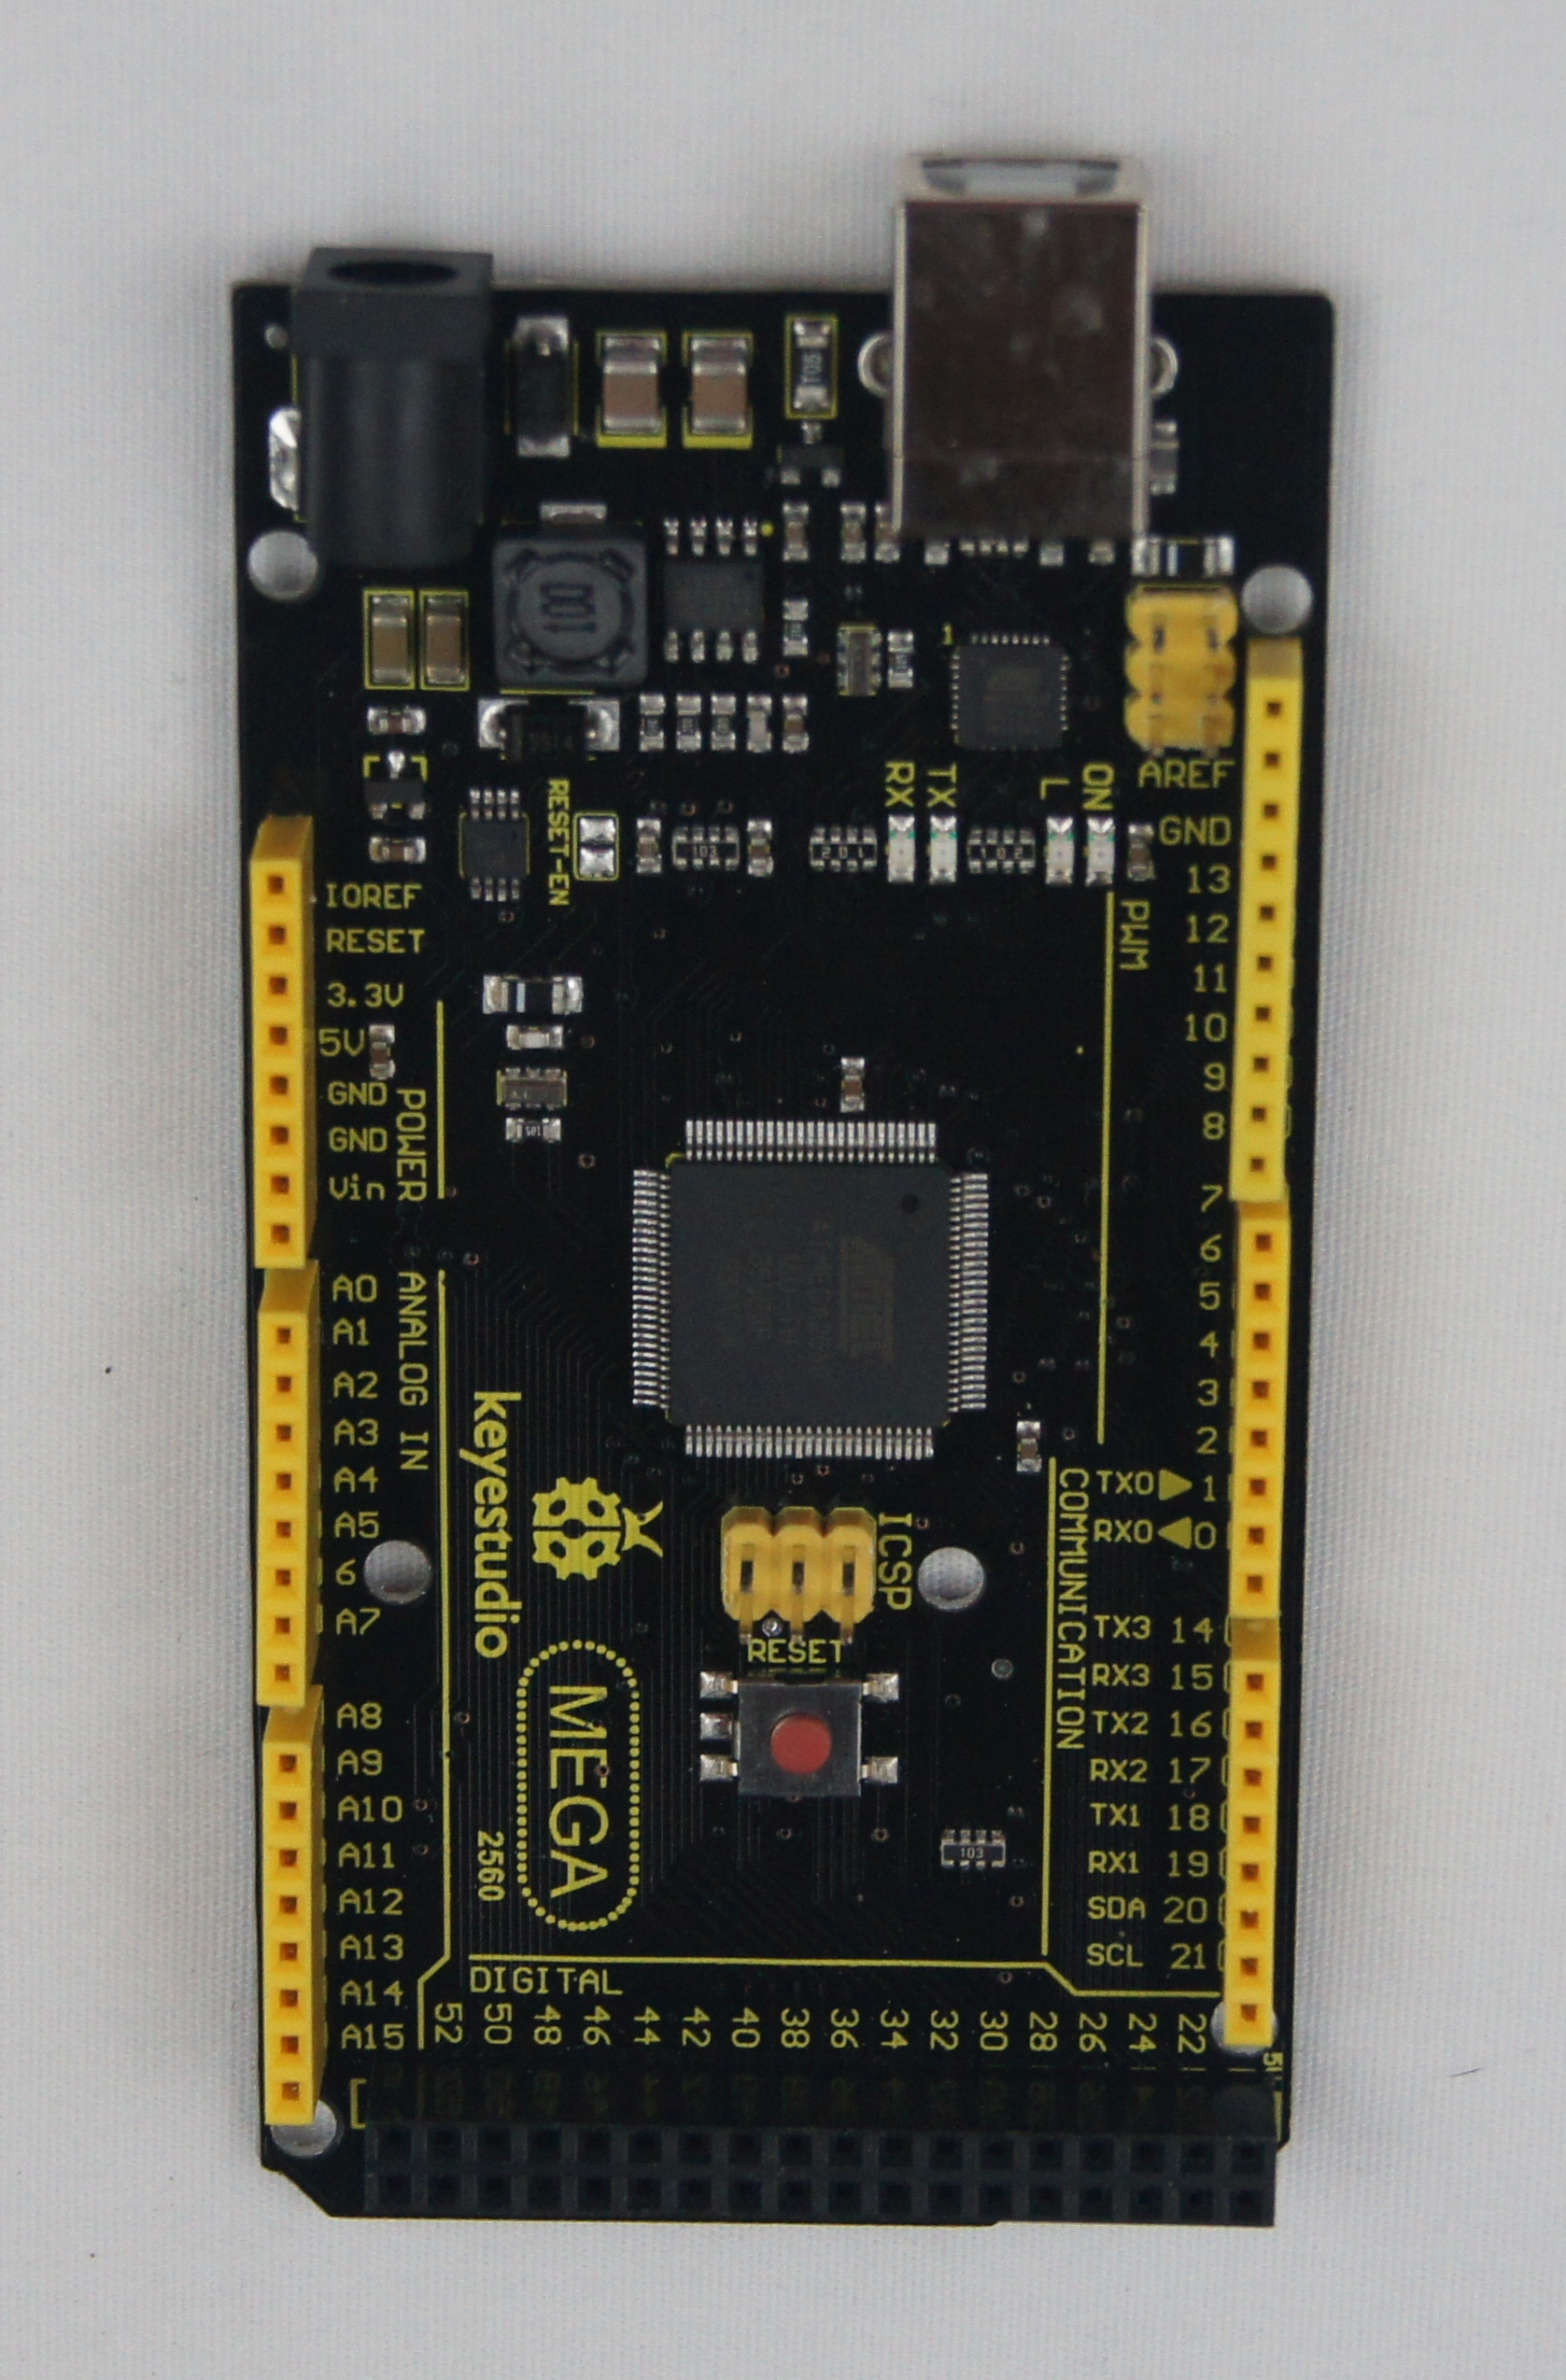connector: (360, 2111, 1276, 2226), (287, 232, 495, 573), (1232, 671, 1297, 1202), (243, 849, 315, 1274), (250, 1307, 320, 1711), (253, 1725, 322, 2123), (1230, 1207, 1292, 1622), (1225, 1648, 1279, 2048), (717, 1520, 879, 1648), (1126, 587, 1236, 760)
